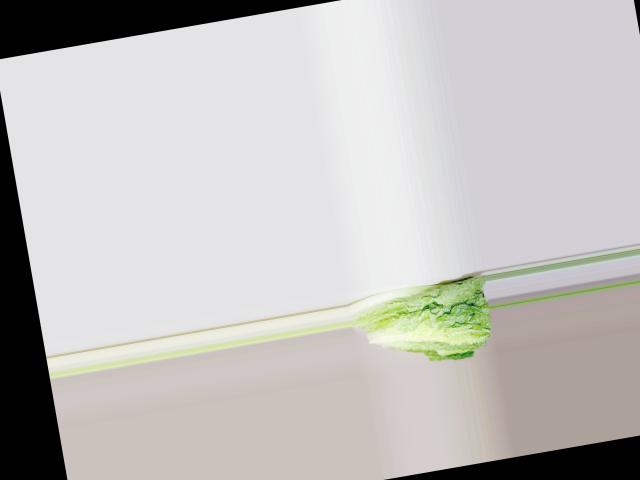lettuce: (352, 270, 497, 365)
